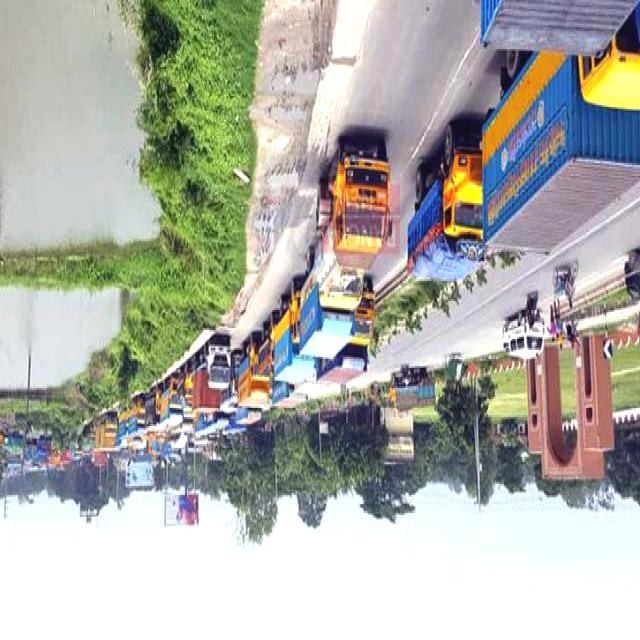white: (502, 316, 542, 356)
